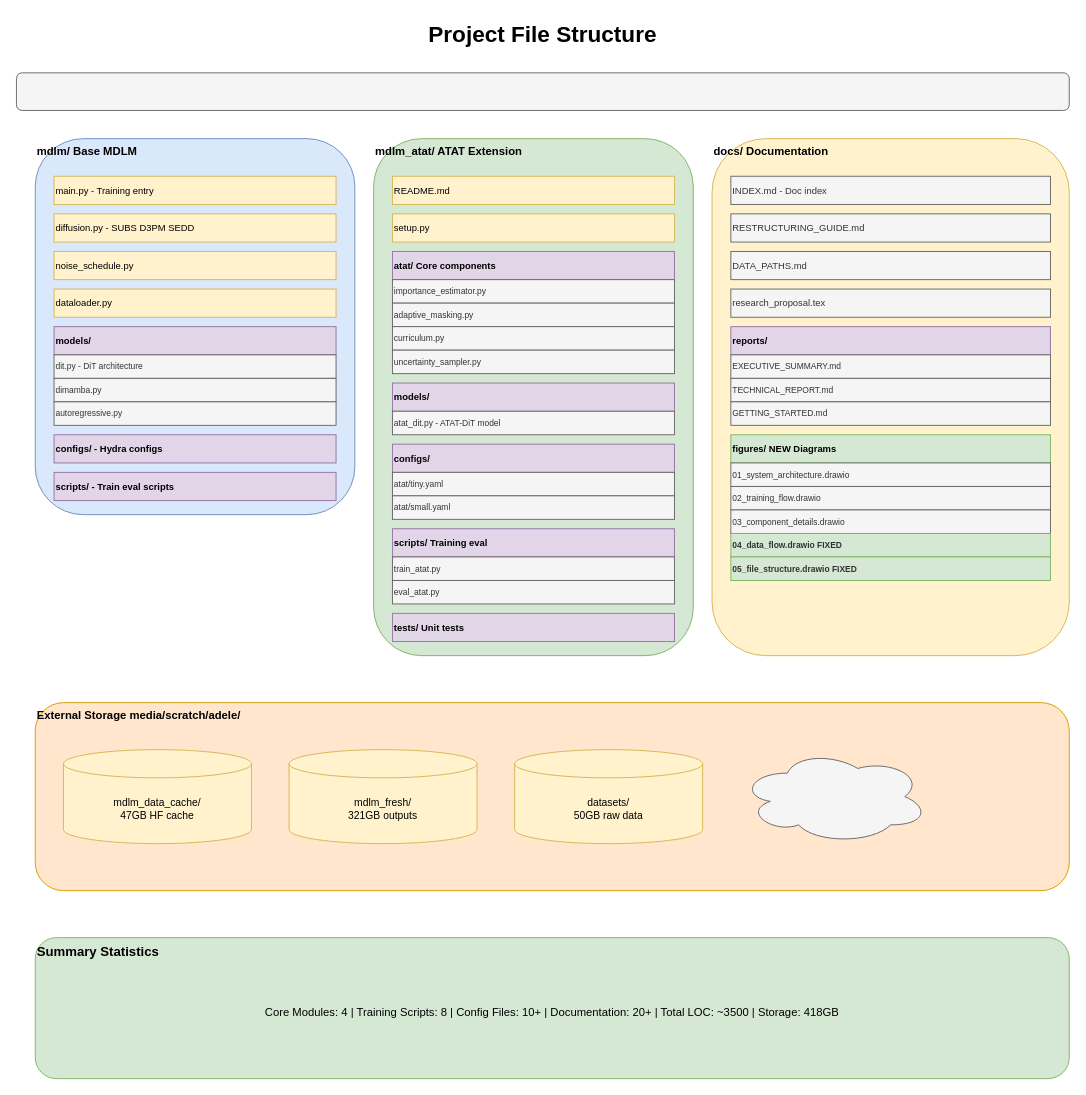
Image size: 1086x1095. Some labels were removed from this diagram. The shapes that lost their labels are listed below. From the top down, each one's centre as x and y in pixels, then its label:
point (542, 91): mdlm/
point (833, 796): WandB Logs Cloud sync
